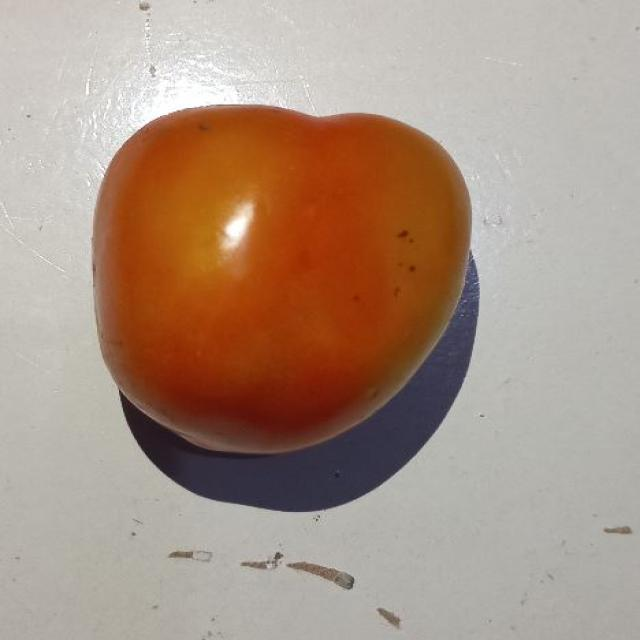ripe tomato: (91, 96, 488, 480)
